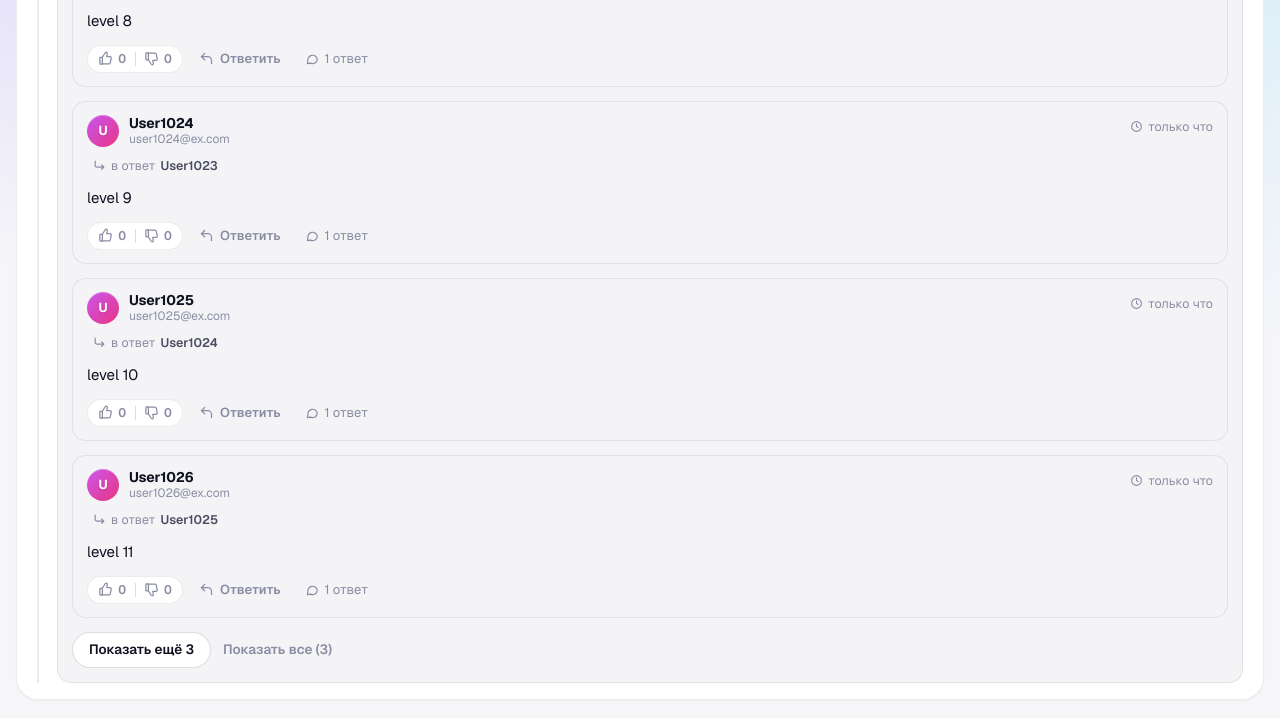
CommentsTable › «Показать ещё» показывает остаток, если его меньше 10
(page scrolled)
Click the button "Показать ещё 3" at (142,650), box x1=72 y1=632 x2=211 y2=668
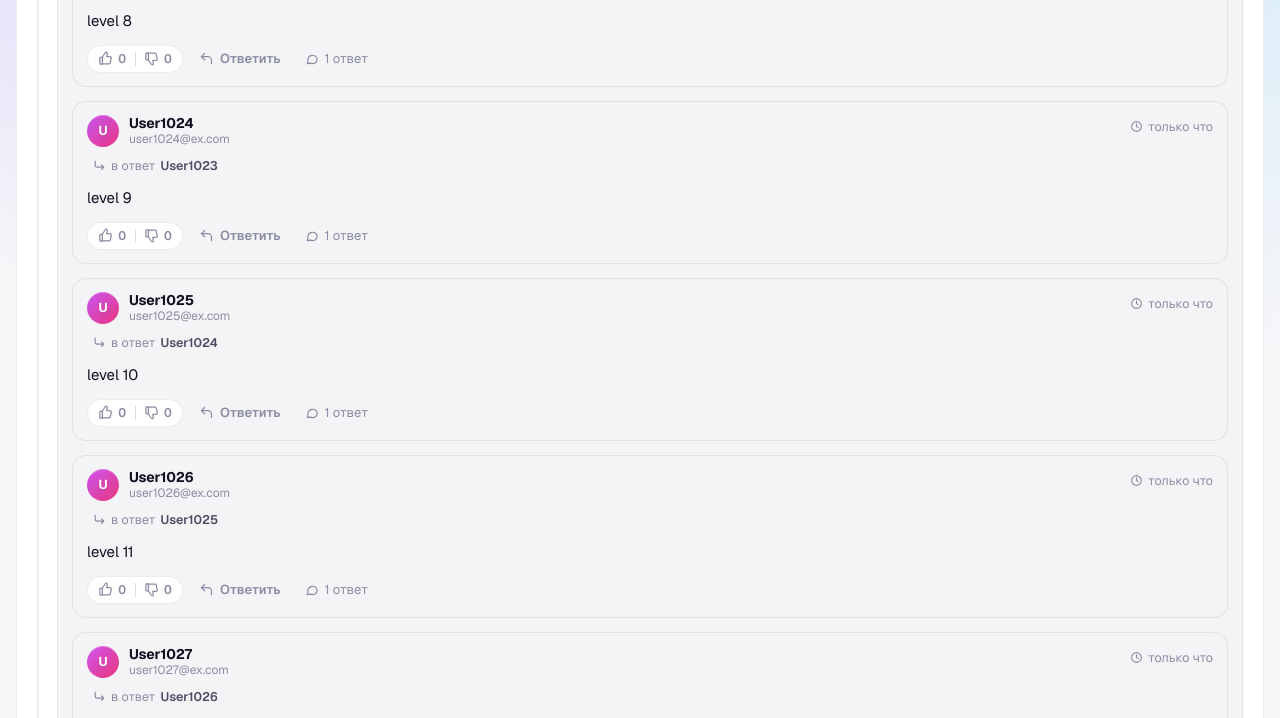
Expected: the button "Показать" is gone
